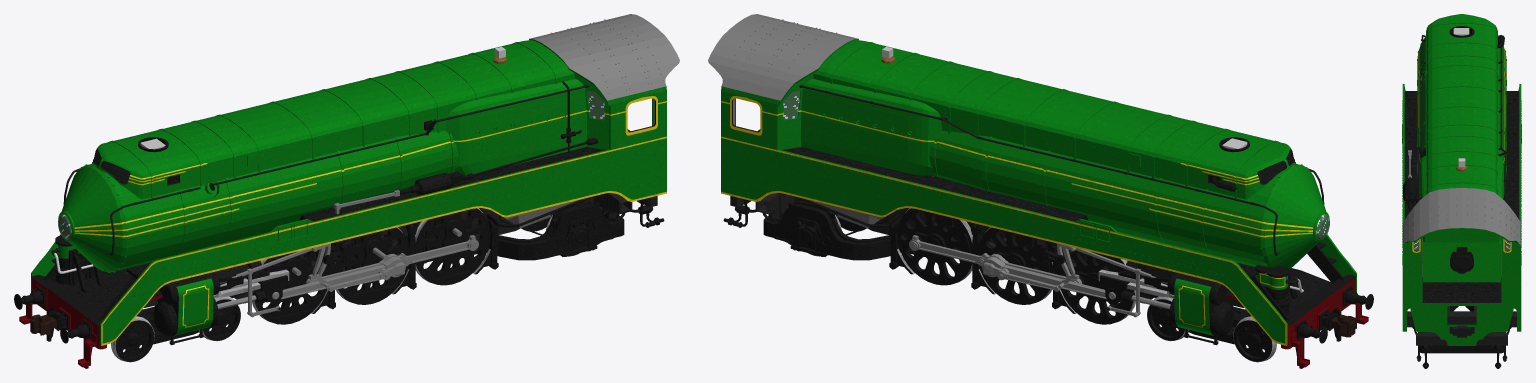
Rendered from class_38.obj.
3 views of the same model, side by side, from view 1: azimuth 30°, elevation 25°; view 2: azimuth 150°, elevation 25°; view 3: azimuth 270°, elevation 25° (orthographic). The views are drawn at different scales.
Parts seen in each view (by area): view 1: SHELL_Cube.035, Cube.017_Cube.030, CAB_Cube.266, SMOKEBOX_Cylinder.147, BOILER_SEGMENT_1_Cylinder.008, STEAM_CHEST_Cylinder.001, Cube.012_Cube.015, BOGEY_REAR_Cube.016, WHEEL_DRIVER_3_Cylinder.000, WHEEL_DRIVER_2_Cylinder.002, WHEEL_DRIVER_1_Cylinder.004, BOILER_SEGMENT_4_Cube.037 (+13 smaller); view 2: SHELL_Cube.035, Cube.017_Cube.030, CAB_Cube.266, SMOKEBOX_Cylinder.147, BOILER_SEGMENT_1_Cylinder.008, STEAM_CHEST_Cylinder.001, BOGEY_REAR_Cube.016, Cube.012_Cube.015, WHEEL_DRIVER_3_Cylinder.000, WHEEL_DRIVER_2_Cylinder.002, WHEEL_DRIVER_1_Cylinder.004, BOILER_SEGMENT_2_Cylinder.012 (+11 smaller); view 3: SHELL_Cube.035, CAB_Cube.266, FIREBOX_Cube.036, Cube.017_Cube.030, BOILER_SEGMENT_4_Cube.037, FRAME_Cube.002, BOILER_SEGMENT_1_Cylinder.008, BOGEY_REAR_Cube.016, SMOKEBOX_Cylinder.147, Cylinder_Cylinder.014, Cylinder.005_Cylinder, Cylinder.012_Cylinder.053 (+4 smaller).
Part boxes in pixels (left/top/right/bottom): SHELL_Cube.035: left=92, top=40, right=586, bottom=199; Cube.017_Cube.030: left=31, top=147, right=610, bottom=345; CAB_Cube.266: left=529, top=14, right=679, bottom=201; SMOKEBOX_Cylinder.147: left=58, top=163, right=230, bottom=272; BOILER_SEGMENT_1_Cylinder.008: left=225, top=136, right=407, bottom=242; STEAM_CHEST_Cylinder.001: left=153, top=239, right=350, bottom=345; Cube.012_Cube.015: left=14, top=268, right=162, bottom=349; BOGEY_REAR_Cube.016: left=467, top=200, right=624, bottom=260; WHEEL_DRIVER_3_Cylinder.000: left=394, top=208, right=490, bottom=285; WHEEL_DRIVER_2_Cylinder.002: left=312, top=227, right=410, bottom=304; WHEEL_DRIVER_1_Cylinder.004: left=252, top=250, right=329, bottom=324; BOILER_SEGMENT_4_Cube.037: left=108, top=42, right=557, bottom=198; SHELL_Cube.035: left=801, top=40, right=1295, bottom=199; Cube.017_Cube.030: left=777, top=147, right=1356, bottom=345; CAB_Cube.266: left=708, top=14, right=858, bottom=201; SMOKEBOX_Cylinder.147: left=1157, top=163, right=1329, bottom=268; BOILER_SEGMENT_1_Cylinder.008: left=980, top=136, right=1162, bottom=242; STEAM_CHEST_Cylinder.001: left=1037, top=239, right=1234, bottom=345; BOGEY_REAR_Cube.016: left=763, top=200, right=915, bottom=260; Cube.012_Cube.015: left=1225, top=268, right=1373, bottom=349; WHEEL_DRIVER_3_Cylinder.000: left=897, top=208, right=992, bottom=285; WHEEL_DRIVER_2_Cylinder.002: left=977, top=227, right=1074, bottom=304; WHEEL_DRIVER_1_Cylinder.004: left=1058, top=250, right=1135, bottom=324; BOILER_SEGMENT_2_Cylinder.012: left=933, top=131, right=985, bottom=189; SHELL_Cube.035: left=1419, top=14, right=1504, bottom=276; CAB_Cube.266: left=1402, top=188, right=1521, bottom=345; FIREBOX_Cube.036: left=1423, top=229, right=1500, bottom=282; Cube.017_Cube.030: left=1402, top=84, right=1521, bottom=264; BOILER_SEGMENT_4_Cube.037: left=1426, top=22, right=1497, bottom=194; FRAME_Cube.002: left=1407, top=306, right=1516, bottom=345; BOILER_SEGMENT_1_Cylinder.008: left=1417, top=79, right=1506, bottom=169; BOGEY_REAR_Cube.016: left=1417, top=306, right=1506, bottom=353; SMOKEBOX_Cylinder.147: left=1417, top=37, right=1506, bottom=94; Cylinder_Cylinder.014: left=1412, top=324, right=1511, bottom=368; Cylinder.005_Cylinder: left=1417, top=35, right=1425, bottom=201; Cylinder.012_Cylinder.053: left=1498, top=35, right=1506, bottom=201.
Size of the model in its own units: 14.74 by 4.72 by 3.07.
Materials: 16 (15 with a texture image).
